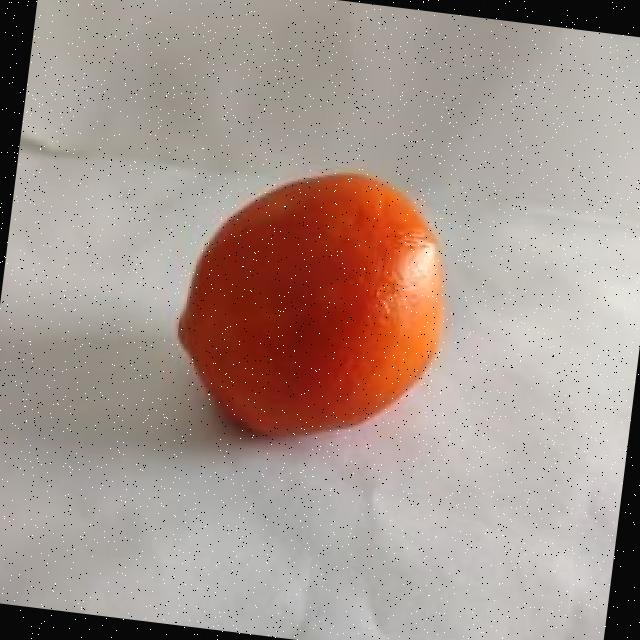Ripe: (160, 150, 469, 460)
